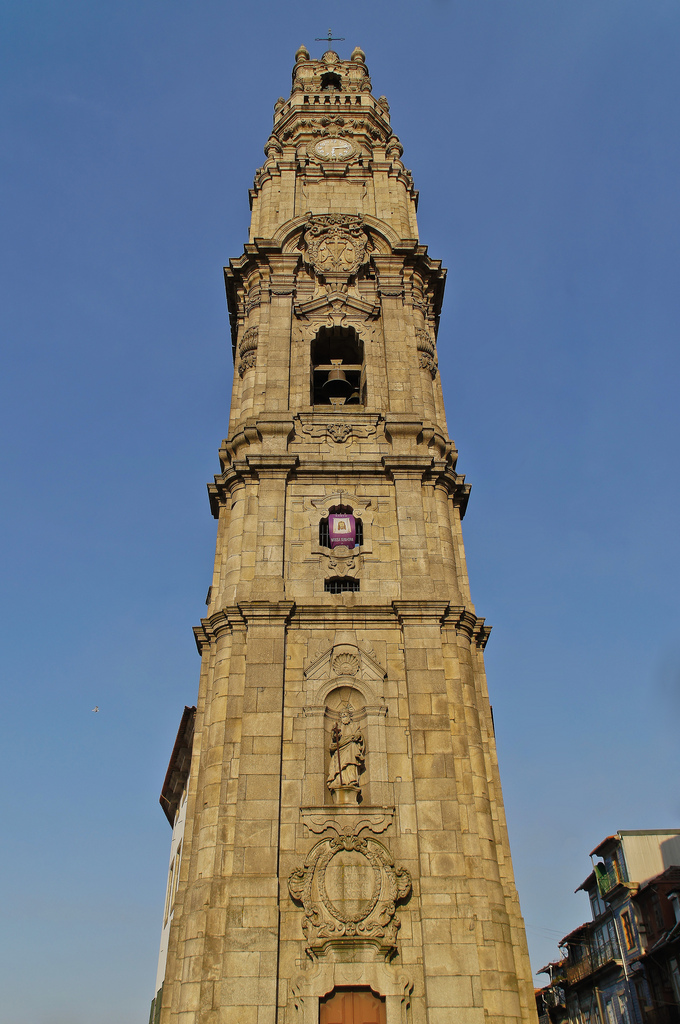clerigos: (147, 33, 540, 1023)
